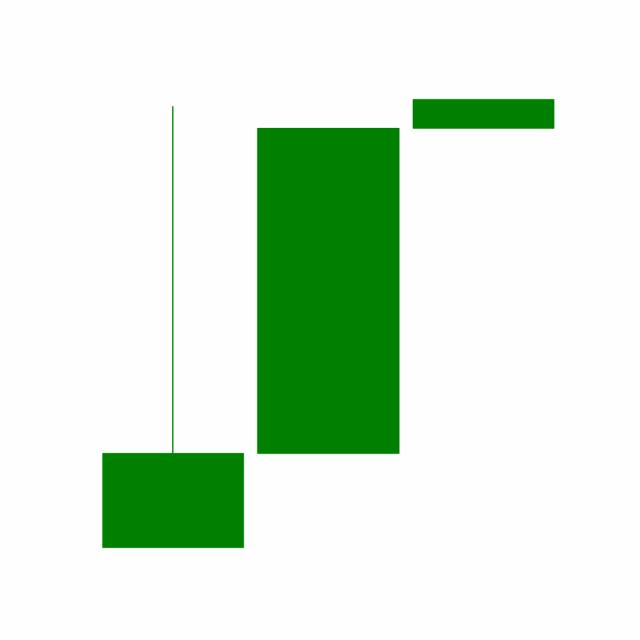Marubozu: (249, 124, 406, 457)
